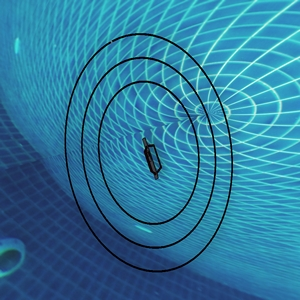circle: (40, 20, 237, 292)
submarine: (142, 141, 160, 172)
